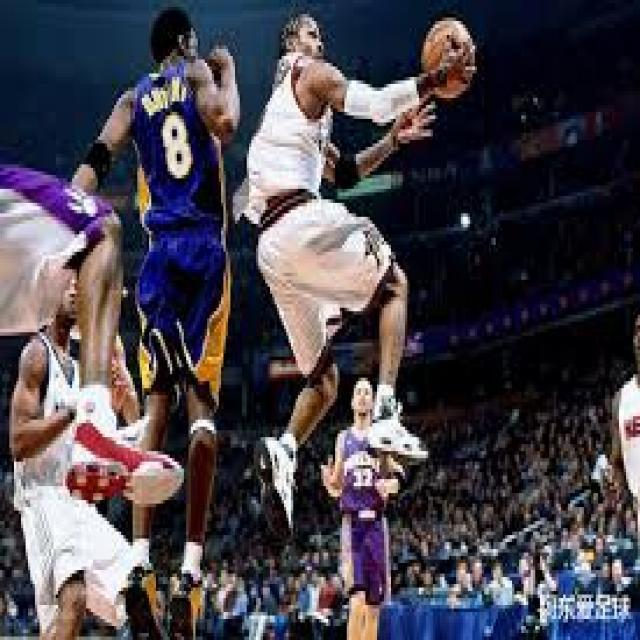rim: (423, 20, 472, 94)
